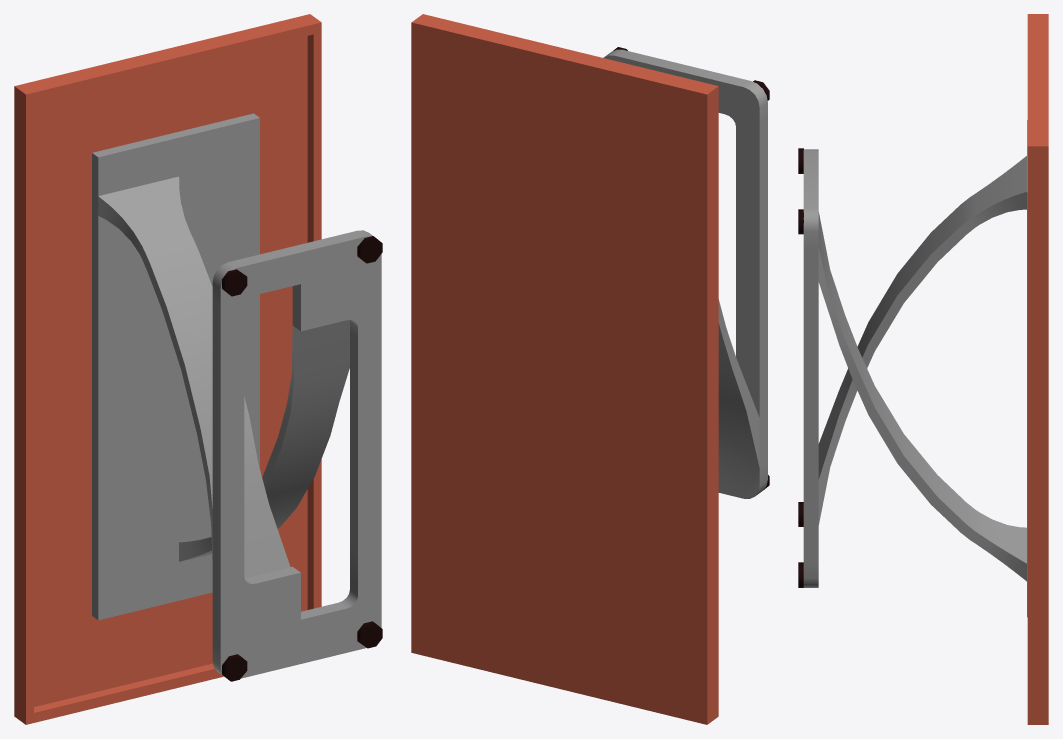
Rendered from dining_table.fbx.
3 views of the same model, side by side, from view 1: azimuth 30°, elevation 25°; view 2: azimuth 150°, elevation 25°; view 3: azimuth 270°, elevation 25° (orthographic). The views are drawn at different scales.
Visible parts, largest first — view 1: Cube.007; view 2: Cube.007; view 3: Cube.007.
Boxes of the visible parts, left/top/right/bottom form: Cube.007: left=14, top=14, right=382, bottom=724; Cube.007: left=411, top=14, right=769, bottom=724; Cube.007: left=798, top=14, right=1048, bottom=724.
Size of the model in its own units: 91.87 by 187 by 73.38.
